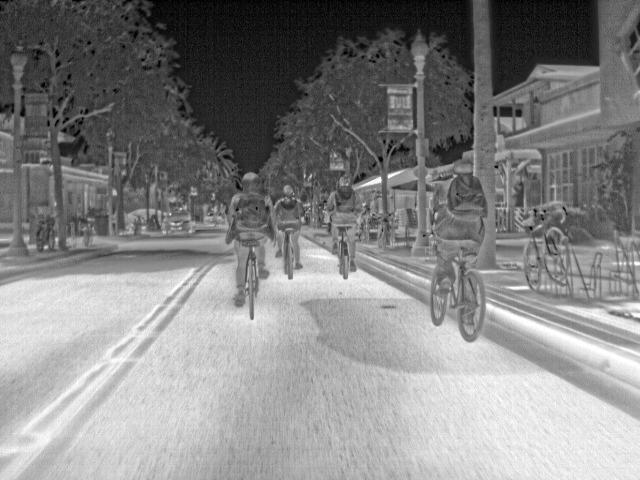car: (160, 211, 196, 235), (203, 211, 225, 226)
person: (427, 158, 486, 296), (222, 170, 273, 304), (327, 172, 362, 274), (273, 182, 304, 270), (510, 180, 526, 207), (304, 204, 314, 225), (316, 203, 324, 225)
